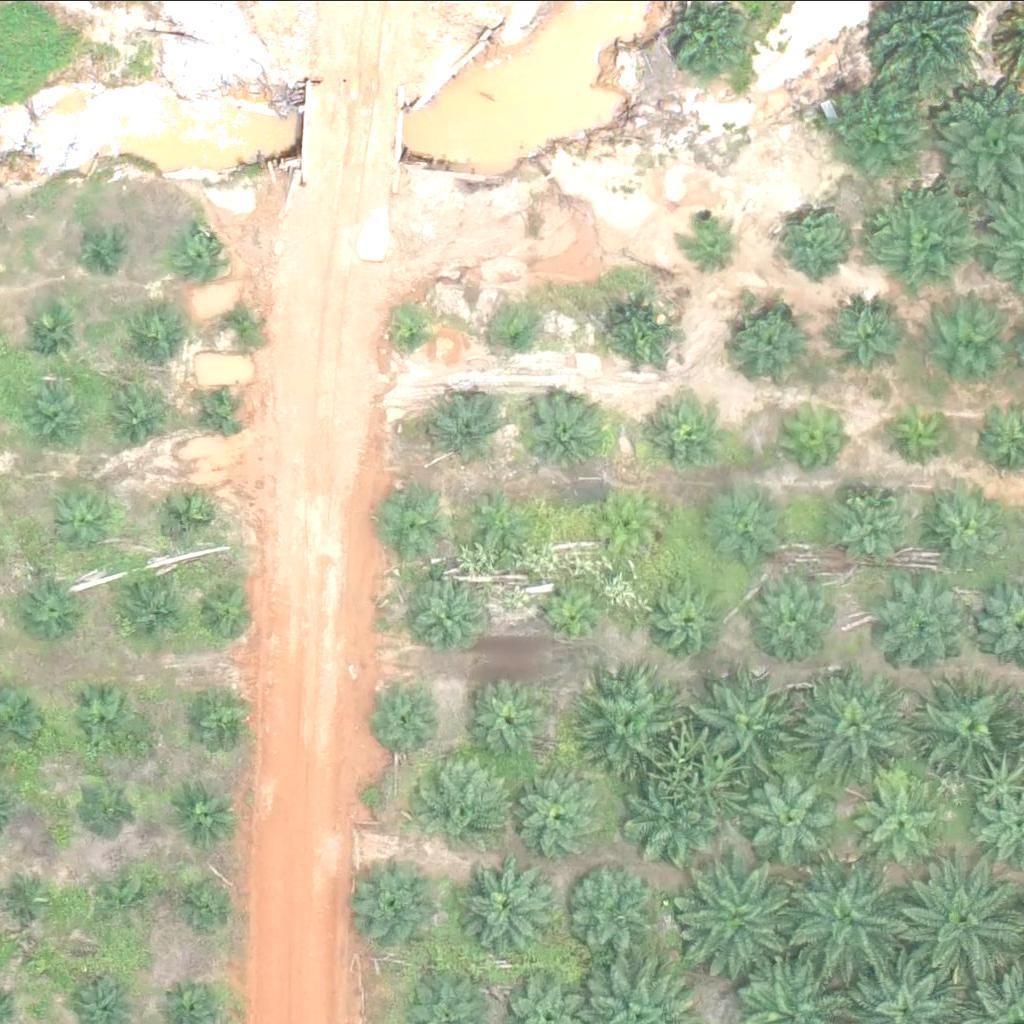Kelapa_Sawit: (788, 848, 914, 973), (683, 852, 808, 977), (804, 665, 917, 778), (820, 74, 934, 186), (872, 184, 985, 296), (703, 669, 804, 769), (915, 678, 1016, 778), (580, 675, 680, 775), (416, 753, 516, 853), (449, 858, 549, 958), (733, 295, 821, 383), (926, 483, 1014, 571), (883, 577, 971, 665), (750, 770, 838, 858), (566, 864, 654, 952), (350, 856, 438, 944), (752, 572, 841, 659), (516, 768, 605, 855), (830, 292, 918, 379), (834, 485, 922, 572), (856, 779, 944, 866), (623, 780, 711, 867), (405, 569, 493, 656), (462, 674, 550, 761), (427, 391, 503, 466), (372, 681, 448, 756), (608, 300, 684, 375), (884, 396, 960, 471), (771, 198, 847, 273), (524, 391, 600, 466), (651, 583, 726, 658), (715, 486, 790, 561), (642, 399, 717, 474), (775, 393, 850, 468), (174, 785, 237, 848), (27, 386, 90, 449), (72, 689, 135, 752), (179, 691, 242, 754), (79, 775, 142, 838), (196, 579, 259, 642), (377, 490, 440, 553), (123, 299, 186, 362), (108, 385, 171, 448), (599, 494, 662, 557), (118, 576, 181, 638), (92, 864, 155, 926), (22, 579, 85, 641), (473, 485, 536, 547), (60, 490, 123, 552), (158, 485, 221, 547), (18, 300, 81, 362), (680, 206, 743, 268), (174, 869, 236, 931), (539, 586, 601, 648), (193, 385, 244, 435), (214, 299, 265, 349), (5, 868, 55, 918), (180, 228, 230, 278), (75, 218, 125, 268), (388, 306, 438, 356), (495, 310, 545, 360)
